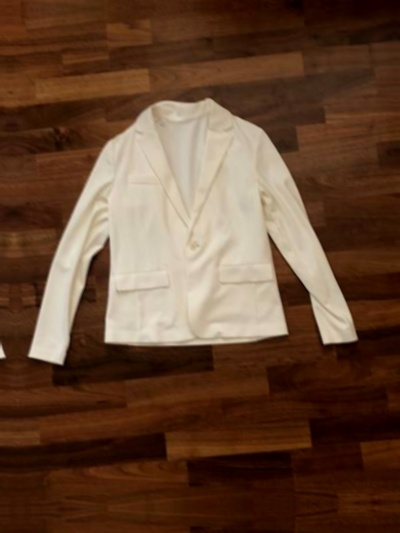Blazer: (25, 80, 368, 391), (0, 88, 2, 399)
